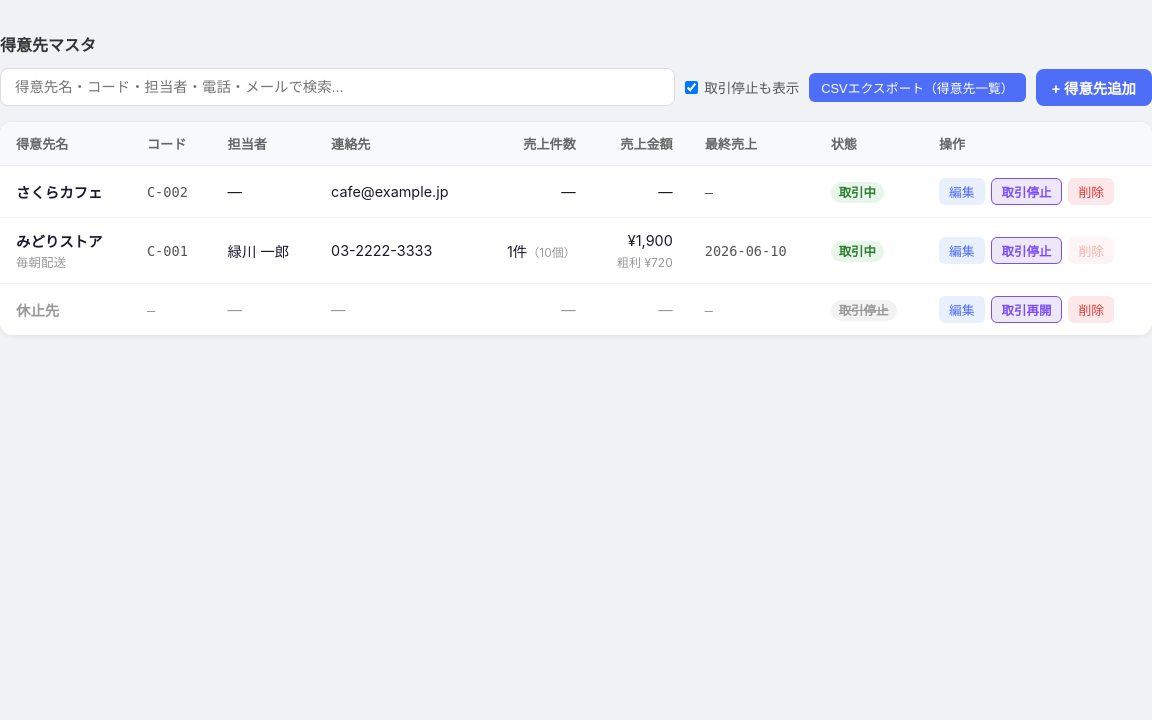
Test: CustomerMasterView › 同じ名前の得意先は登録できず、エラーを出す
Click the button "+ 得意先追加" at coordinates (1094, 87), box [1036,68,1151,106]
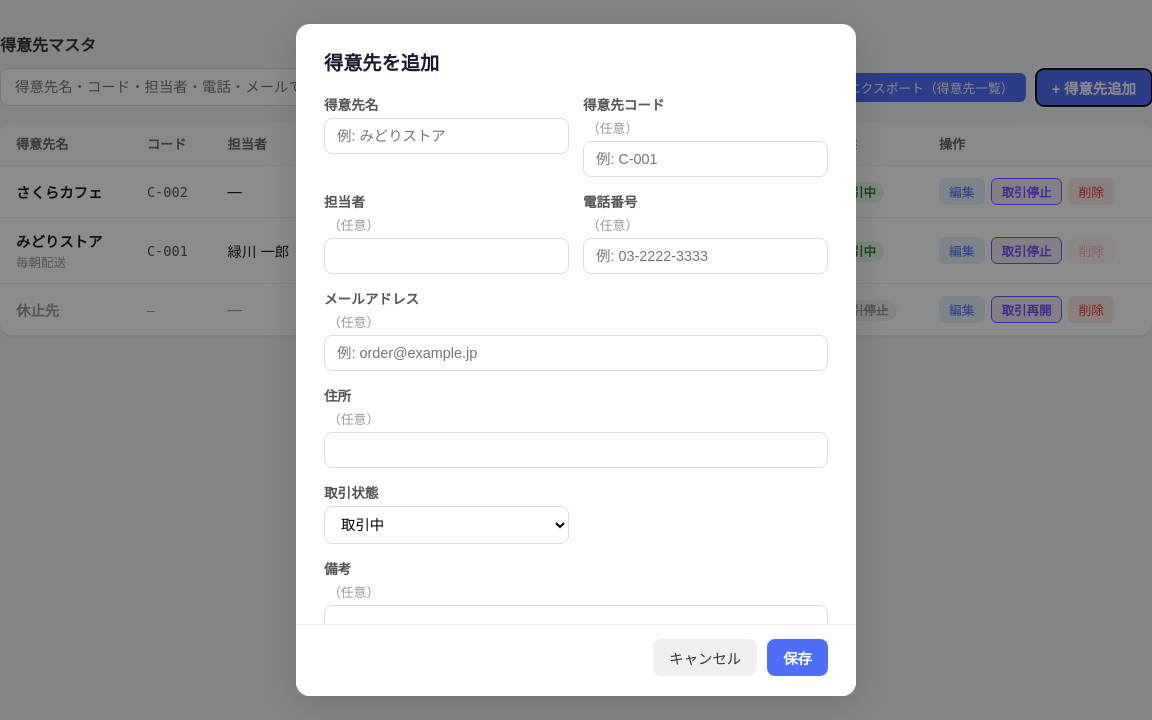
Type "みどりストア" into the field labelled "得意先名" at coordinates (446, 136), box [324,118,569,154]
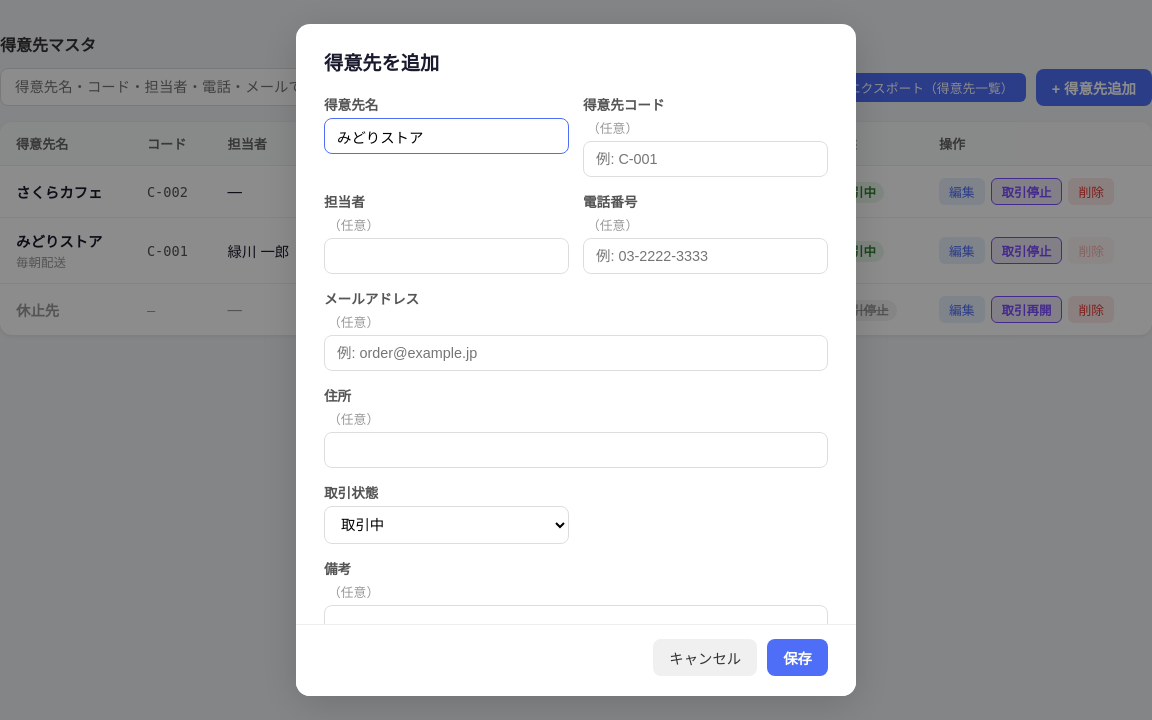
Click the button "保存" at coordinates (798, 658), box [767,639,828,676]
(page scrolled)
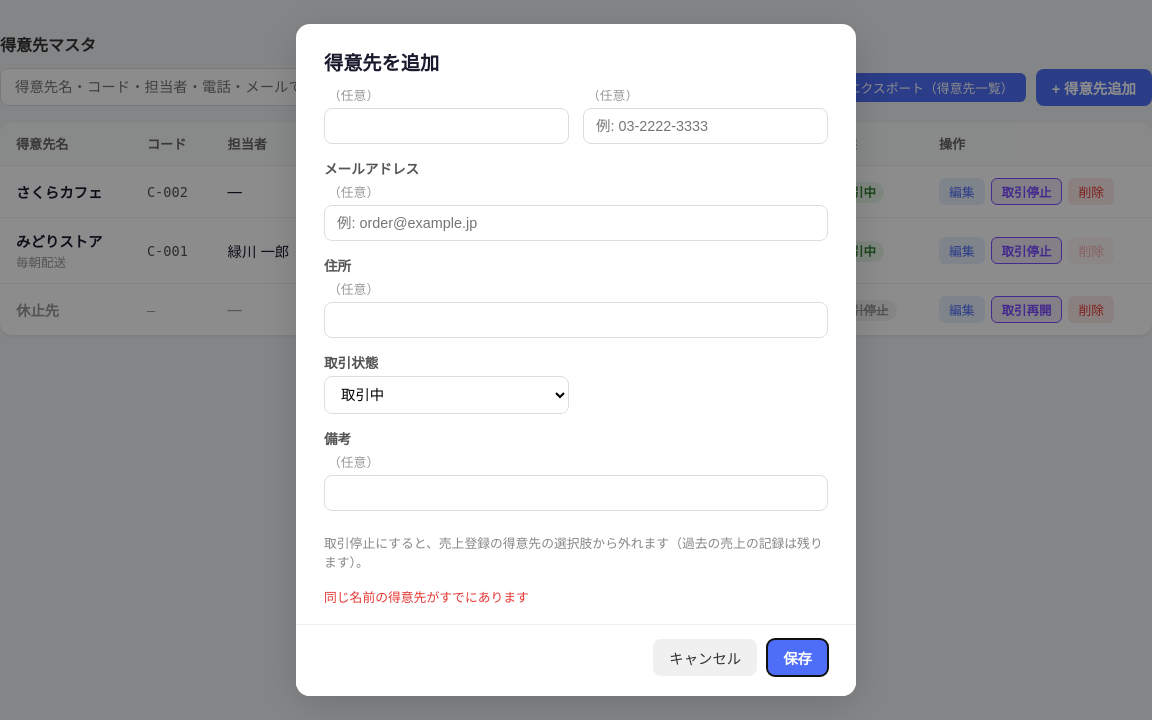
expect the message reads "同じ名前の得意先がすでにあります": met, box [324,590,529,605]
